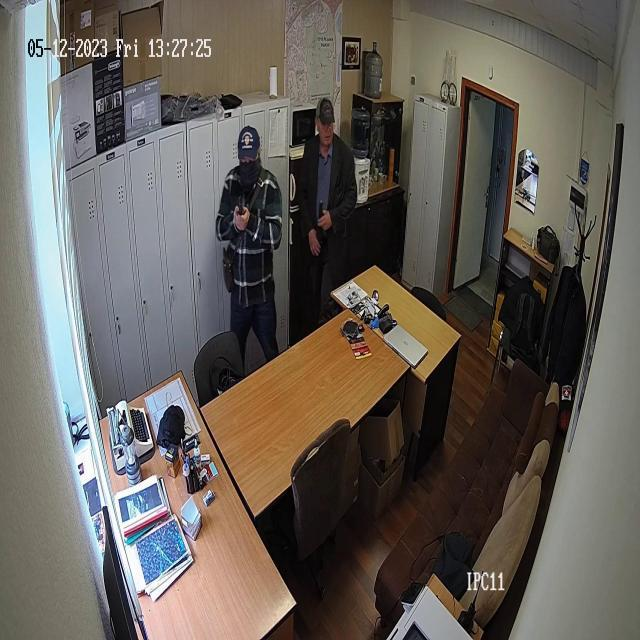pistol: (233, 193, 249, 235)
